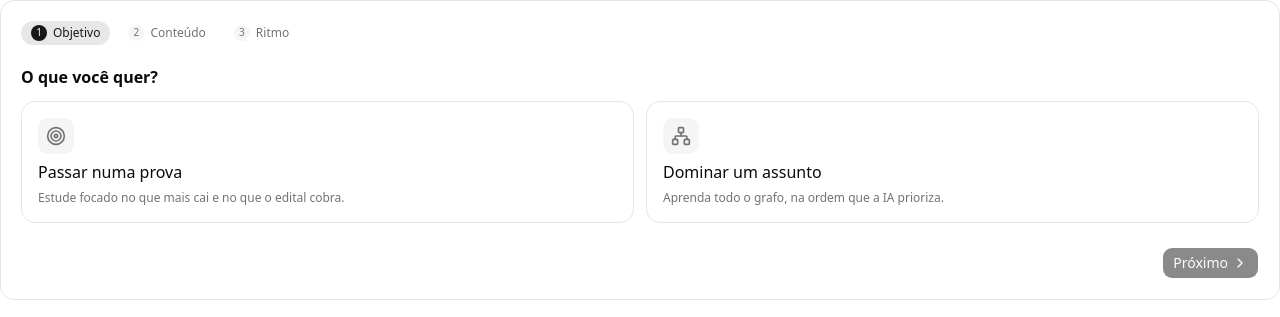
Scenario: PlanSetup (assistente guiado) › não avança do conteúdo sem escolher nada
Click the button "Dominar um assunto": (681, 136) [646,101,1259,223]
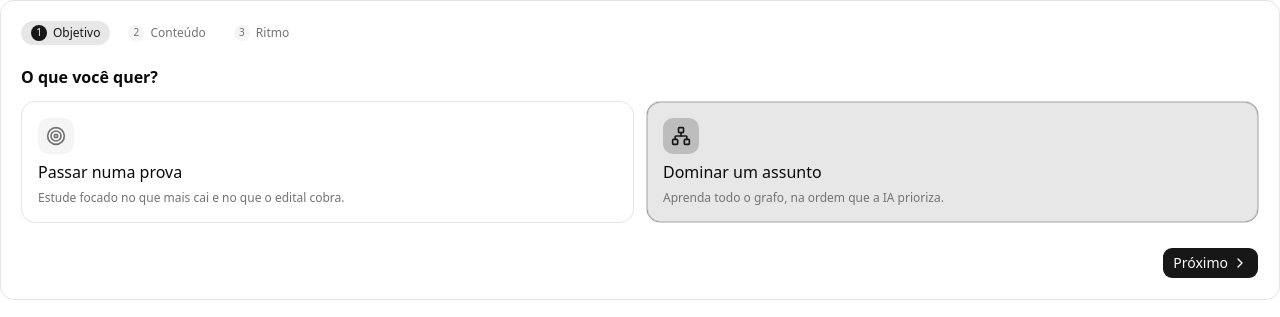
Click the button "Próximo": (1211, 263) [1162,247,1259,279]
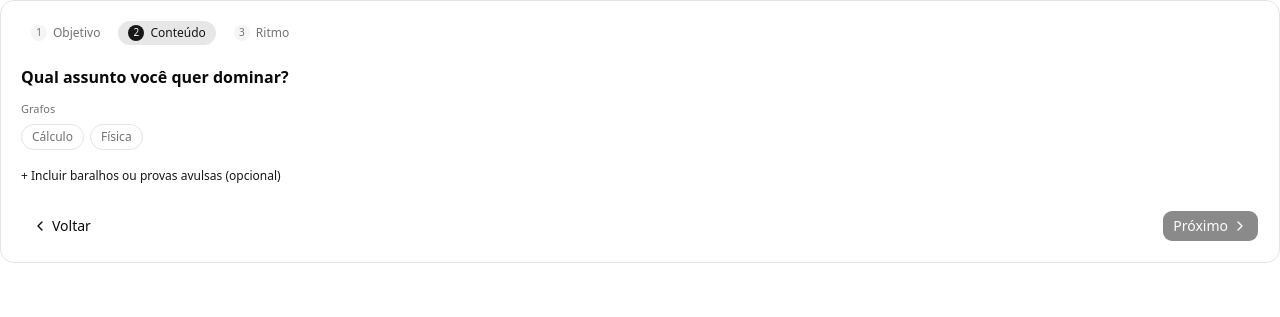
Expected: the button "Próximo" is disabled, [1162,210,1259,242]
